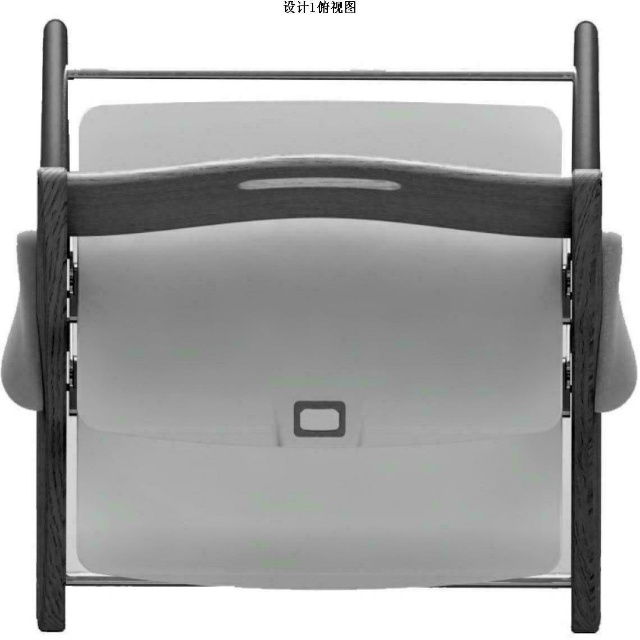obstacle: (36, 20, 602, 632)
